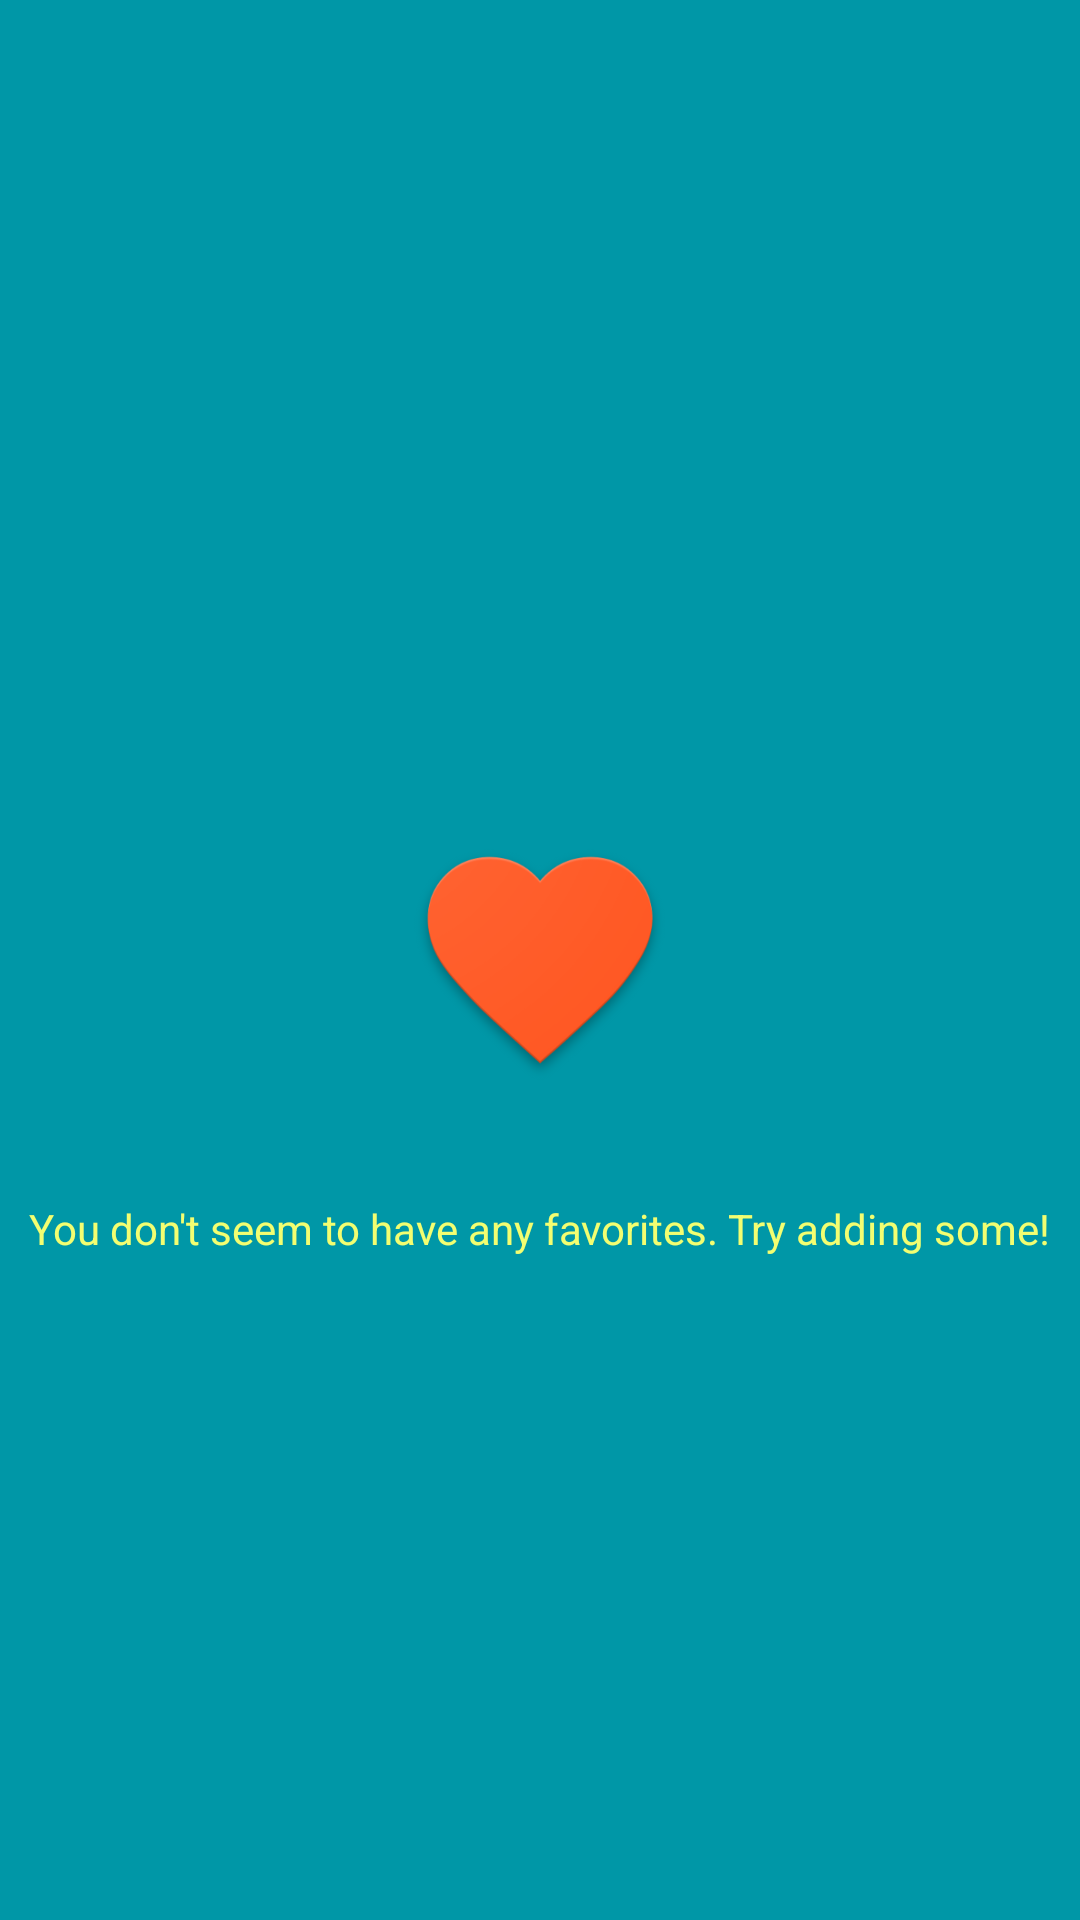

Screen size 1080 × 1920. Icon name, then its box in pixels as bbox(x1, y1, x2, y2):
heart: bbox(427, 856, 653, 1065)
